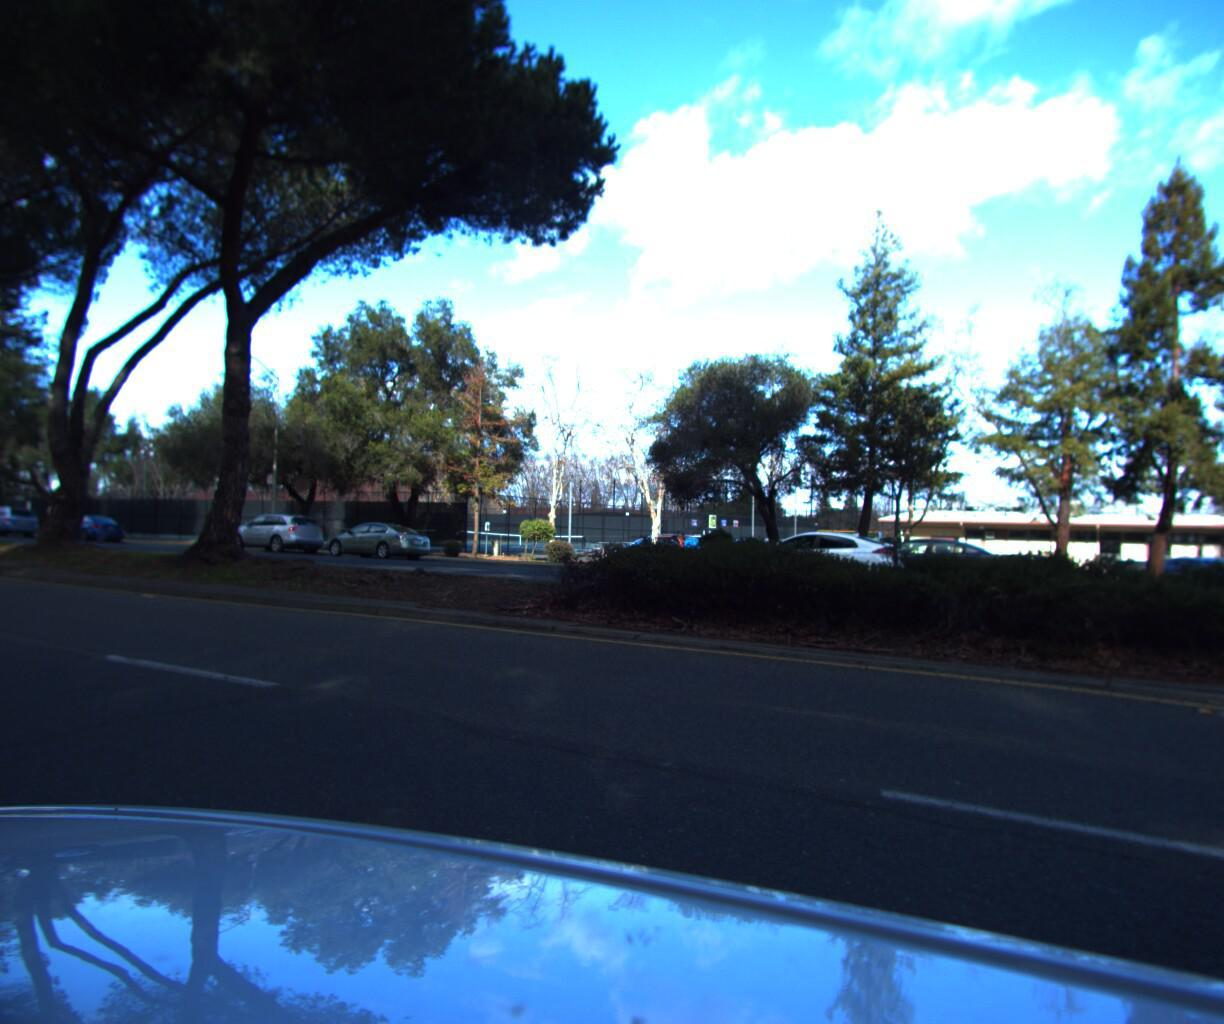car: (719, 525, 917, 605), (814, 526, 1026, 594), (311, 521, 439, 569), (215, 513, 333, 558), (40, 516, 135, 548), (0, 508, 46, 543), (1221, 539, 1224, 628)
